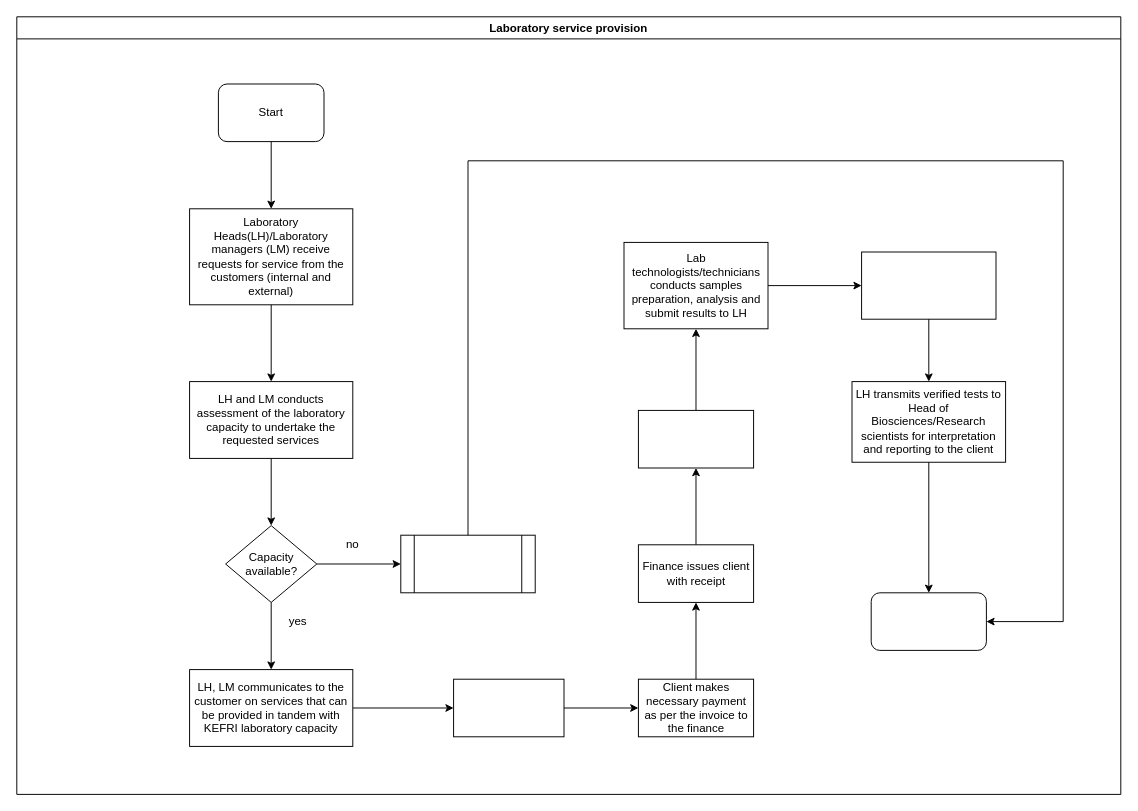
The diagram is 1138 pixels wide and 811 high, and some of its shapes have lost their labels. Here are the shapes that lost their labels. From the top down, the centre of each, then its label:
At pixel 928 285: "LH verifies and conducts quality checks".
At pixel 695 438: "LH/LM receives and records samples".
At pixel 467 563: "Notify customer that service cannot be undertaken".
At pixel 928 621: "End".
At pixel 508 707: "LH invoices for the services".
